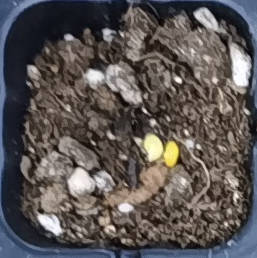pepper seed: (73, 56, 254, 223), (61, 51, 225, 214)
